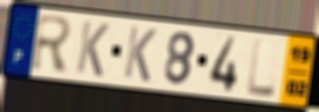4: (207, 33, 240, 95)
8: (163, 30, 196, 87)
K: (74, 18, 112, 80), (122, 23, 159, 85)
L: (246, 36, 278, 99)
R: (30, 12, 75, 74)
